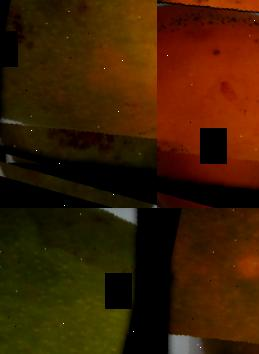PartiallyRipe: (0, 0, 157, 202), (157, 208, 259, 354)
Ripe: (157, 0, 259, 208)
Unripe: (0, 208, 157, 354)
